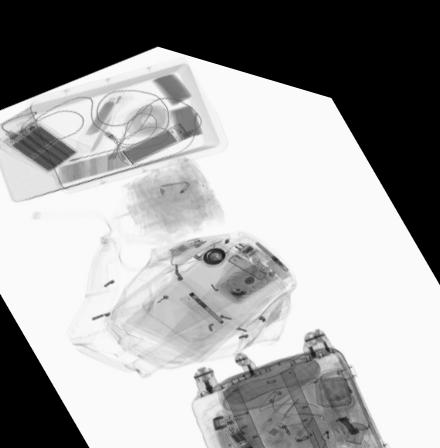Lighter: (164, 224, 205, 246)
